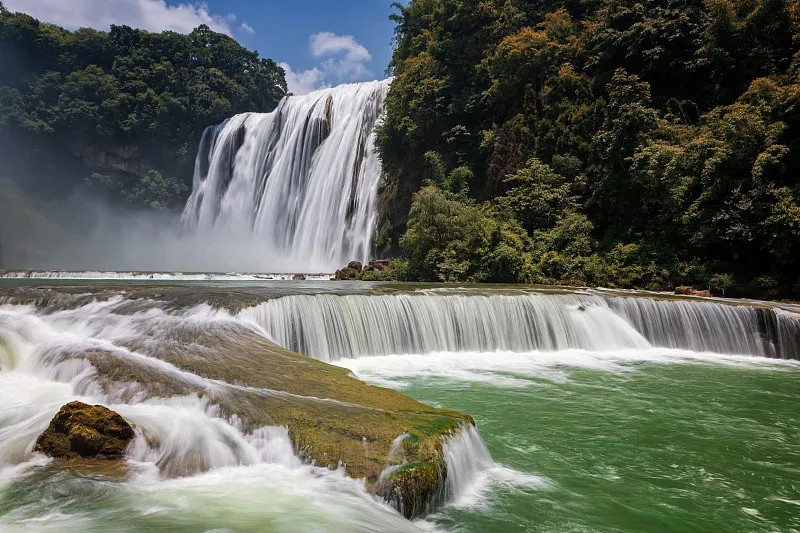Huangguoshu: (175, 76, 393, 273)
